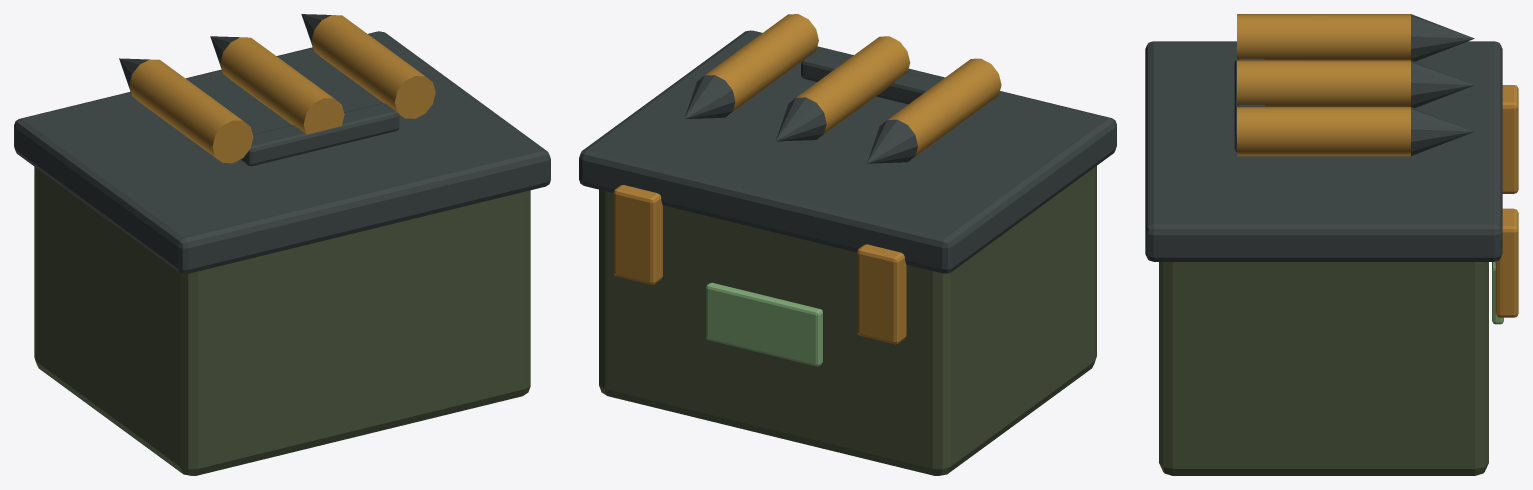
The model's file is noir-ammo-rifle.glb.
3 renders of one model, left to right at view 1: azimuth 30°, elevation 25°; view 2: azimuth 150°, elevation 25°; view 3: azimuth 270°, elevation 25°, orthographic. The views are drawn at different scales.
Visible parts, largest first — view 1: noir-ammo-rifle mesh; view 2: noir-ammo-rifle mesh; view 3: noir-ammo-rifle mesh.
Part boxes in pixels (box(x1,y1,x2,y2)): noir-ammo-rifle mesh: box(14, 14, 550, 475); noir-ammo-rifle mesh: box(579, 14, 1116, 475); noir-ammo-rifle mesh: box(1145, 14, 1518, 475).
Bounding box in the file's own units: 0.49 × 0.397 × 0.4075.
